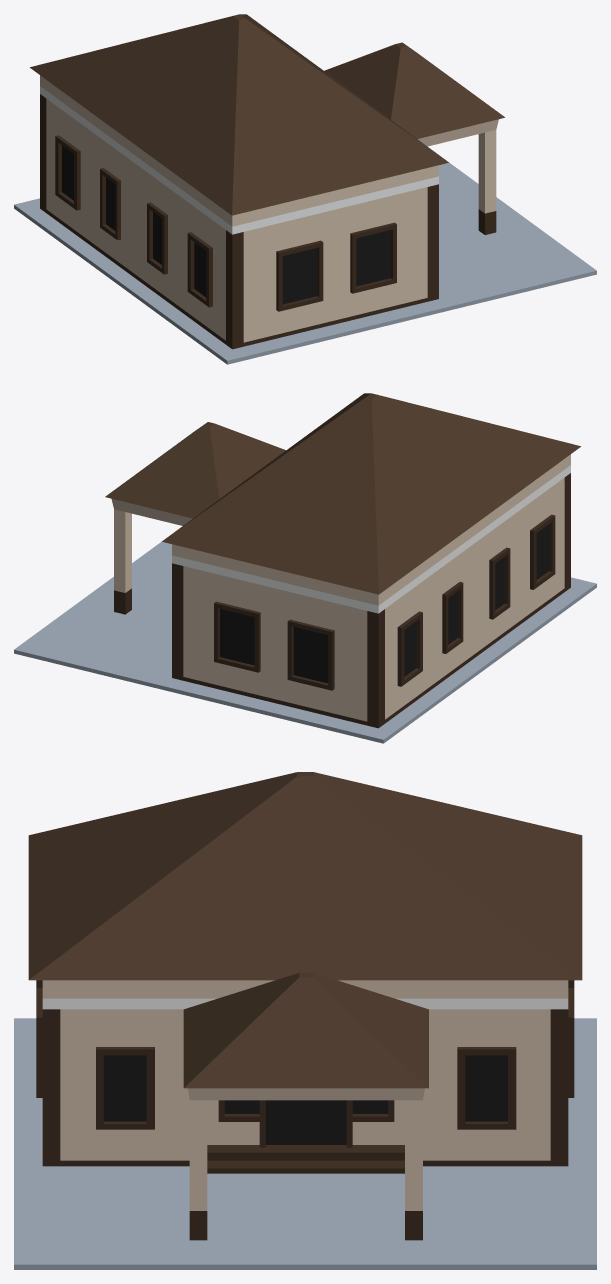
File: police.glb
The picture shows the model from 3 angles, top to bottom: view 1: azimuth 30°, elevation 25°; view 2: azimuth 150°, elevation 25°; view 3: azimuth 270°, elevation 25°; orthographic projection. The views are drawn at different scales.
Parts seen in each view (by area): view 1: police; view 2: police; view 3: police.
Boxes of the visible parts, box(x1,y1,x2,y2) form: police: box(14, 14, 596, 364); police: box(14, 393, 596, 743); police: box(14, 772, 596, 1269).
Size of the model in its own units: 10 by 6.21 by 10.
